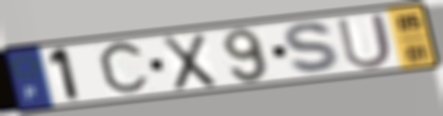1: (46, 45, 83, 103)
9: (218, 27, 270, 85)
C: (96, 38, 153, 100)
S: (281, 20, 347, 76)
U: (333, 11, 395, 71)
X: (160, 31, 220, 93)
